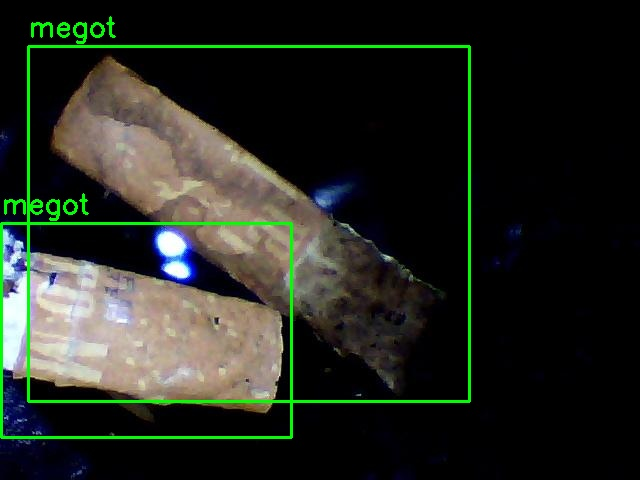megot: (28, 46, 469, 401), (1, 223, 291, 437)
